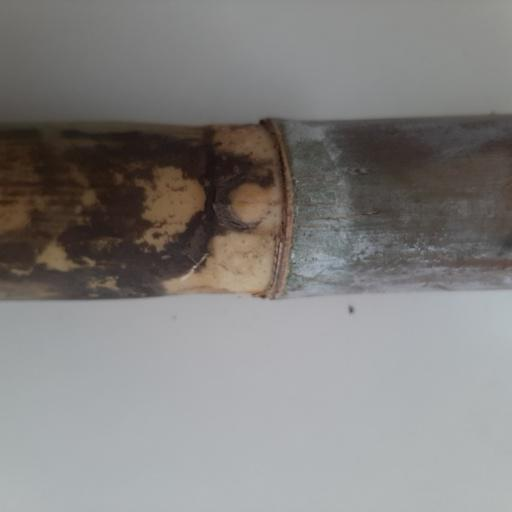Bud: (227, 182, 273, 223)
